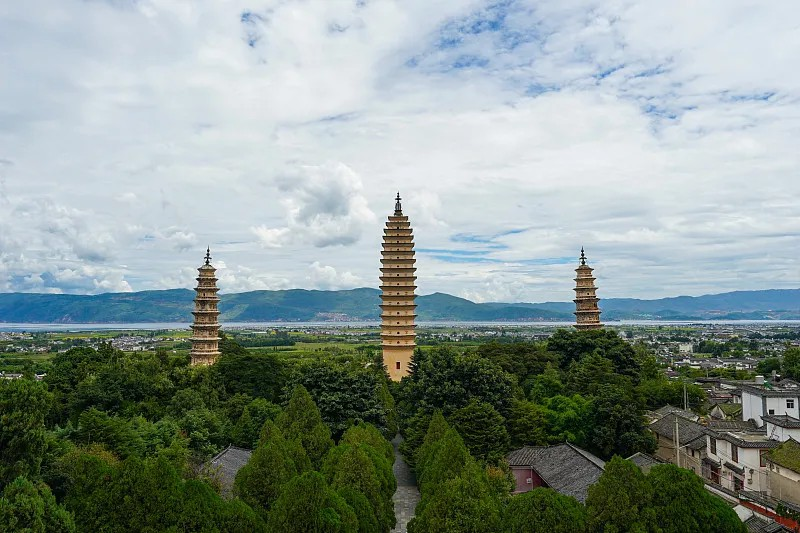ThreePagoda: (379, 192, 419, 383)
